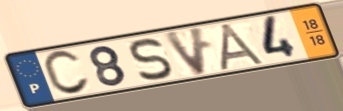4: (261, 14, 303, 62)
8: (88, 44, 129, 88)
A: (217, 21, 269, 72)
C: (41, 49, 93, 97)
S: (128, 36, 175, 82)
V: (160, 24, 210, 78)
